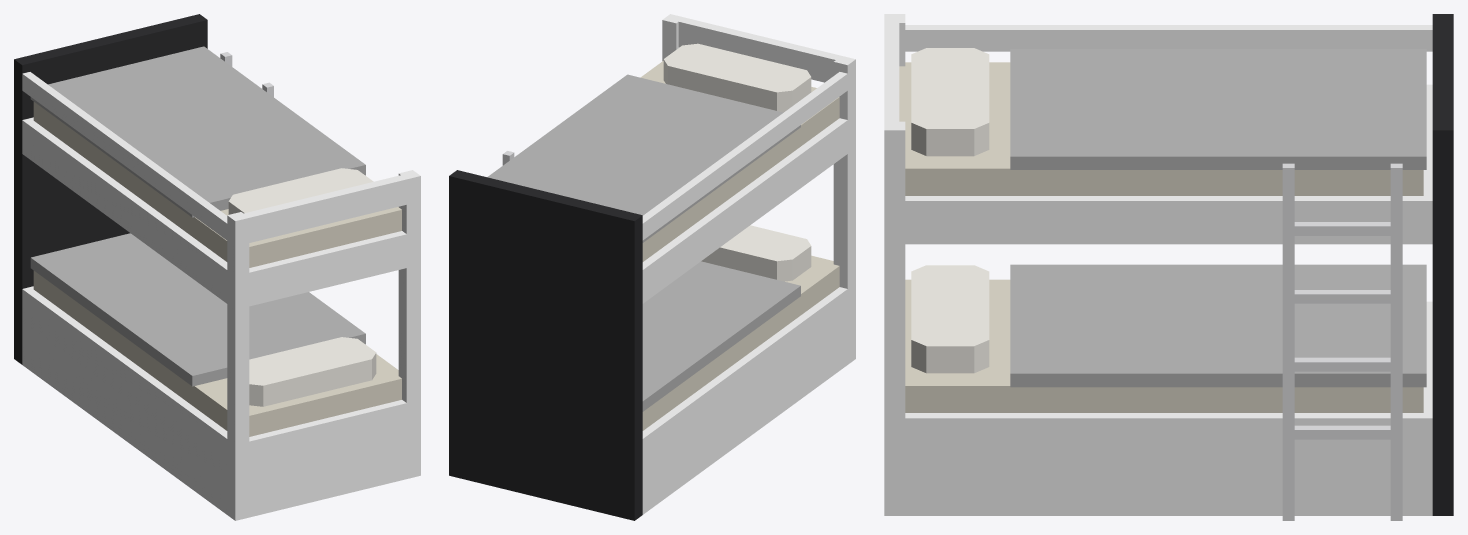
The model's file is vge_crew_bunk_bed.obj.
3 views of the same model, side by side, from view 1: azimuth 30°, elevation 25°; view 2: azimuth 150°, elevation 25°; view 3: azimuth 270°, elevation 25° (orthographic). The views are drawn at different scales.
Visible parts, largest first — view 1: vge_crew_bunk_bed_7, vge_crew_bunk_bed_2, vge_crew_bunk_bed_4, vge_crew_bunk_bed_0, vge_crew_bunk_bed_5, vge_crew_bunk_bed_9, vge_crew_bunk_bed_1, vge_crew_bunk_bed_6, vge_crew_bunk_bed_10, vge_crew_bunk_bed_3, vge_crew_bunk_bed_12, vge_crew_bunk_bed_13 (+2 smaller); view 2: vge_crew_bunk_bed_9, vge_crew_bunk_bed_7, vge_crew_bunk_bed_2, vge_crew_bunk_bed_4, vge_crew_bunk_bed_5, vge_crew_bunk_bed_0, vge_crew_bunk_bed_8, vge_crew_bunk_bed_13, vge_crew_bunk_bed_1, vge_crew_bunk_bed_6, vge_crew_bunk_bed_12, vge_crew_bunk_bed_3 (+2 smaller); view 3: vge_crew_bunk_bed_7, vge_crew_bunk_bed_2, vge_crew_bunk_bed_4, vge_crew_bunk_bed_0, vge_crew_bunk_bed_5, vge_crew_bunk_bed_6, vge_crew_bunk_bed_1, vge_crew_bunk_bed_13, vge_crew_bunk_bed_9, vge_crew_bunk_bed_3, vge_crew_bunk_bed_8, vge_crew_bunk_bed_11 (+7 smaller).
Part boxes in pixels (x1,y1,x2,y2): vge_crew_bunk_bed_7: (30,46,365,217); vge_crew_bunk_bed_2: (30,233,365,386); vge_crew_bunk_bed_4: (22,323,420,520); vge_crew_bunk_bed_0: (22,286,420,478); vge_crew_bunk_bed_5: (22,117,420,309); vge_crew_bunk_bed_9: (14,14,207,364); vge_crew_bunk_bed_1: (33,270,401,436); vge_crew_bunk_bed_6: (33,102,401,267); vge_crew_bunk_bed_10: (227,212,249,519); vge_crew_bunk_bed_3: (249,337,376,406); vge_crew_bunk_bed_12: (229,172,420,246); vge_crew_bunk_bed_13: (22,72,227,240); vge_crew_bunk_bed_9: (449,170,642,520); vge_crew_bunk_bed_7: (487,74,800,242); vge_crew_bunk_bed_2: (642,261,800,411); vge_crew_bunk_bed_4: (642,317,855,514); vge_crew_bunk_bed_5: (642,114,855,303); vge_crew_bunk_bed_0: (642,283,855,472); vge_crew_bunk_bed_8: (663,43,811,112); vge_crew_bunk_bed_13: (642,72,847,240); vge_crew_bunk_bed_1: (642,255,839,430); vge_crew_bunk_bed_6: (640,61,839,261); vge_crew_bunk_bed_12: (665,14,855,88); vge_crew_bunk_bed_3: (701,225,811,281); vge_crew_bunk_bed_7: (1010,49,1426,169); vge_crew_bunk_bed_2: (1010,264,1426,387); vge_crew_bunk_bed_4: (884,461,1432,515); vge_crew_bunk_bed_0: (884,301,1432,461); vge_crew_bunk_bed_5: (884,84,1432,244); vge_crew_bunk_bed_6: (899,62,1423,195); vge_crew_bunk_bed_1: (905,279,1423,412); vge_crew_bunk_bed_13: (905,25,1432,51); vge_crew_bunk_bed_9: (1432,14,1453,515); vge_crew_bunk_bed_3: (911,265,989,373); vge_crew_bunk_bed_8: (911,48,989,156); vge_crew_bunk_bed_11: (884,121,905,515).
Size of the model in its own units: 0.96 by 1.42 by 1.9.
